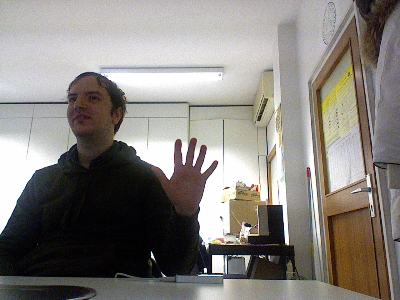布: (148, 134, 219, 211)
